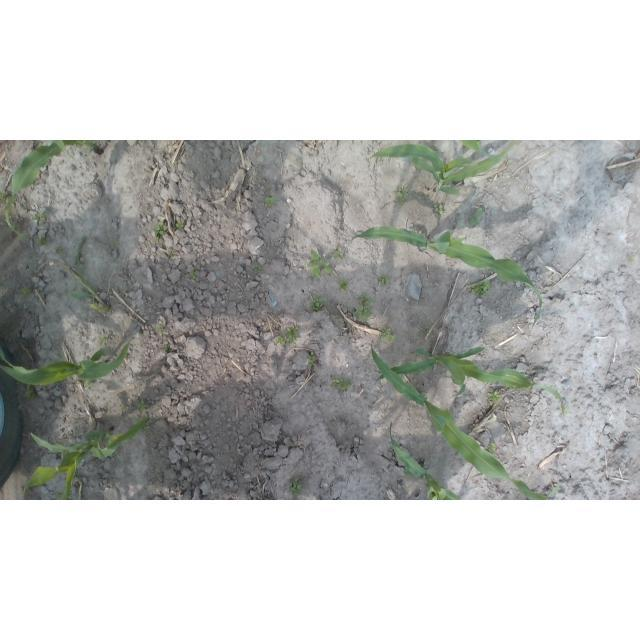Maize: (370, 345, 563, 500), (344, 226, 543, 334), (373, 344, 568, 420), (20, 415, 150, 500), (4, 141, 107, 240), (366, 140, 528, 197), (0, 338, 132, 385), (390, 420, 465, 500)
Weeds: (308, 249, 345, 281), (353, 293, 374, 320), (277, 325, 298, 346), (471, 279, 489, 297), (468, 208, 488, 224), (155, 222, 170, 240), (333, 378, 351, 391), (289, 482, 302, 499), (396, 189, 409, 204), (433, 205, 445, 217), (380, 328, 393, 339), (488, 391, 500, 400), (33, 214, 48, 221), (26, 386, 35, 397), (489, 446, 498, 455), (266, 197, 275, 206), (629, 253, 637, 262), (20, 286, 31, 292), (379, 278, 388, 285), (189, 270, 195, 279), (309, 355, 315, 363), (255, 265, 262, 271), (178, 220, 183, 228), (340, 282, 347, 287), (165, 343, 170, 349), (157, 326, 163, 331)
